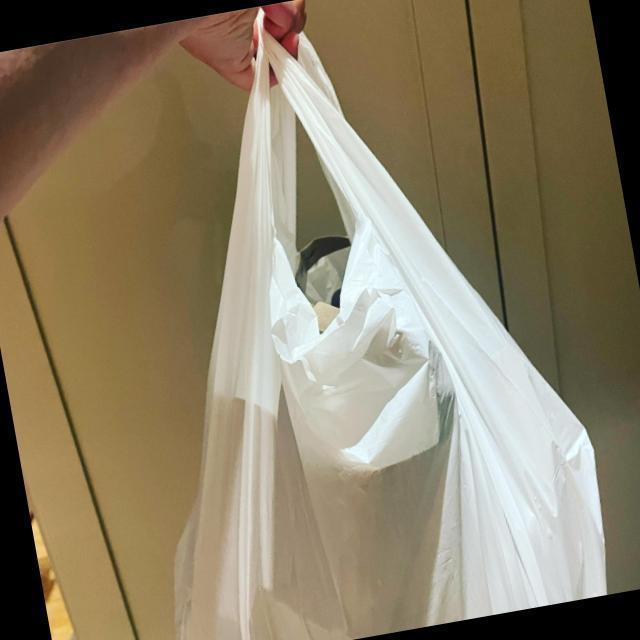KantongPlastik: (170, 20, 608, 637)
